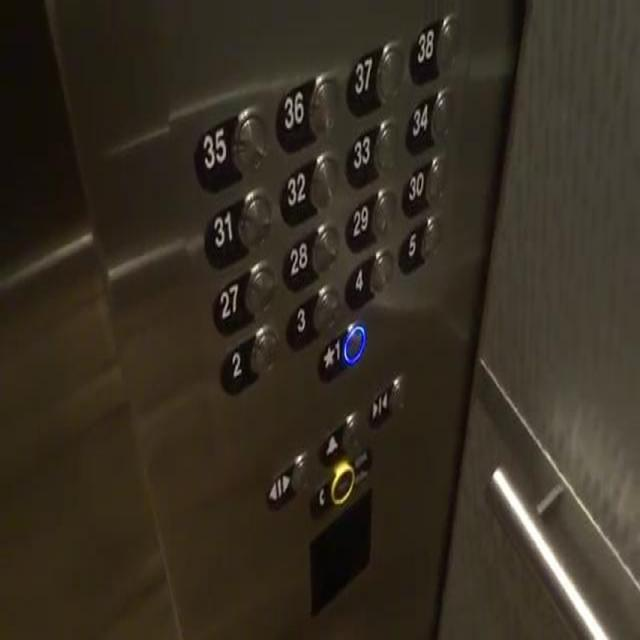2: (215, 320, 279, 399)
27: (210, 253, 278, 336)
28: (280, 216, 342, 293)
29: (342, 184, 396, 255)
3: (282, 275, 341, 349)
30: (399, 153, 453, 219)
31: (199, 189, 274, 271)
32: (277, 145, 341, 228)
33: (342, 113, 400, 191)
34: (403, 84, 456, 155)
35: (190, 101, 271, 192)
36: (273, 70, 341, 154)
37: (342, 33, 408, 119)
38: (409, 8, 462, 85)
4: (342, 243, 395, 312)
5: (395, 210, 442, 274)
alarm: (316, 405, 362, 468)
call: (309, 447, 371, 516)
close: (365, 370, 407, 430)
open: (260, 446, 308, 514)
s1: (314, 315, 366, 384)
